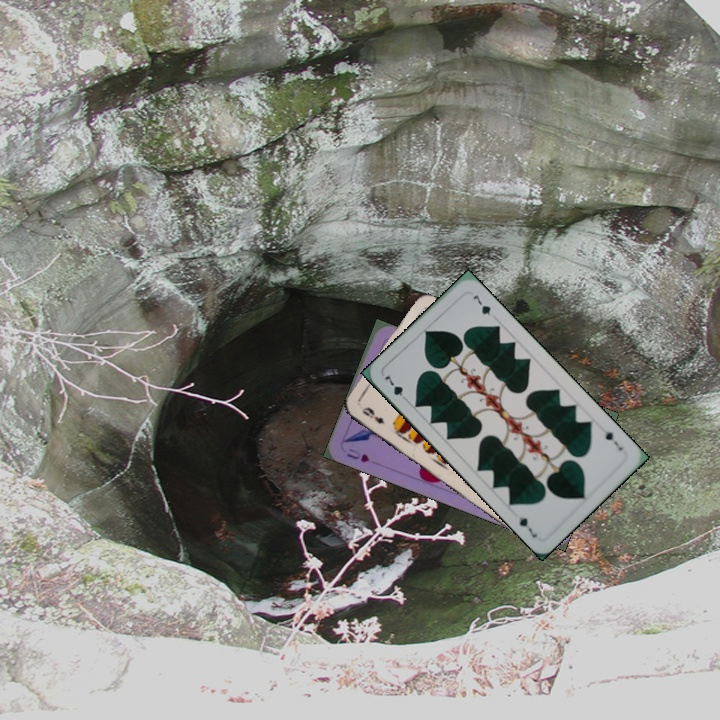E9: (358, 403, 387, 426)
G7: (380, 369, 411, 405), (601, 427, 625, 453)
HU: (342, 444, 372, 465)
